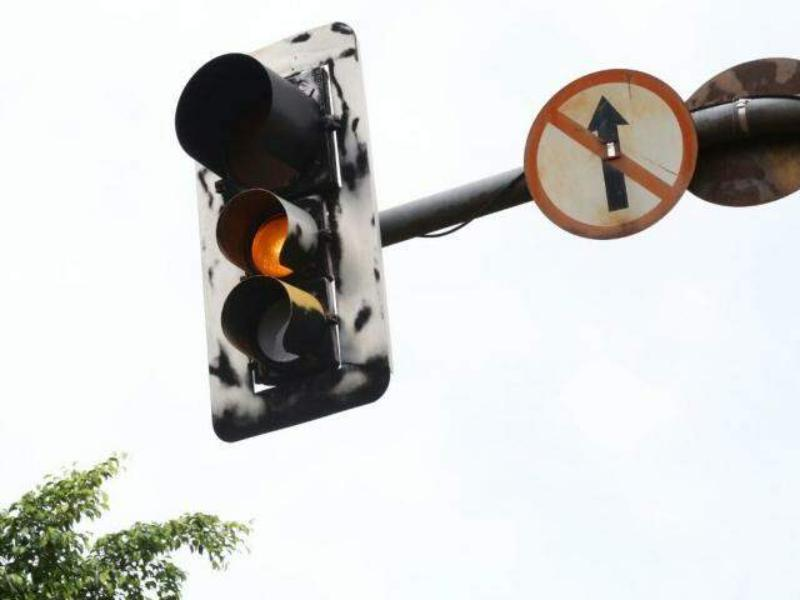yellow_light: (176, 21, 390, 442)
